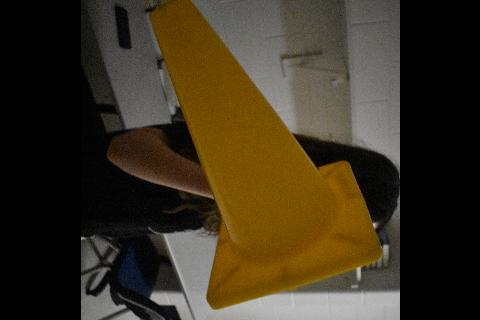cone: (148, 0, 380, 310)
